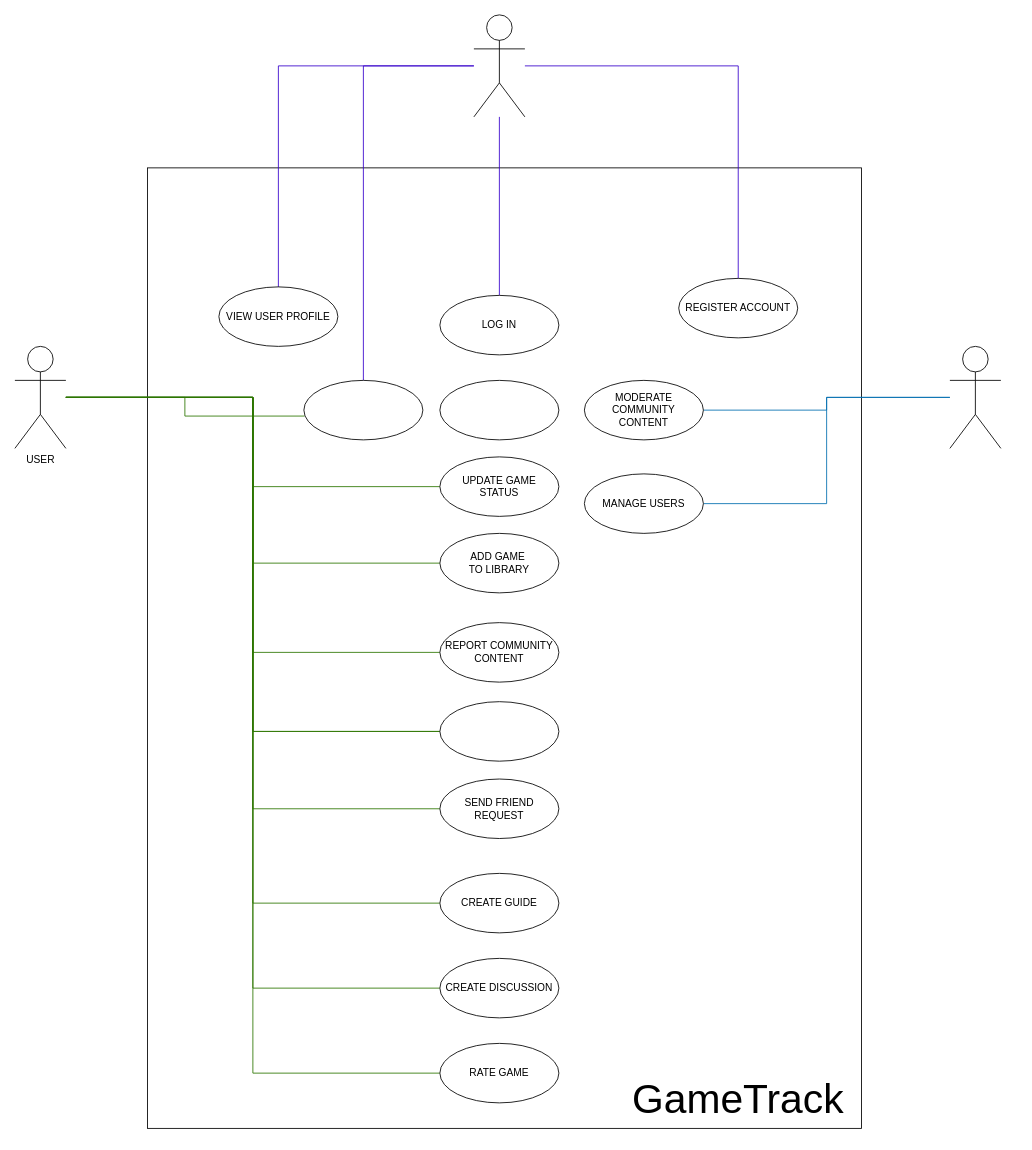
Image size: 1032x1150. Some labels were removed from this diagram. Here are the shapes that lost their labels. From the top down, the centre of each, then its label:
At point (499, 65): "GUEST".
At point (363, 410): "VIEW COMMUNITY CONTENT".
At point (499, 410): "MANAGE PROFILE".
At point (975, 397): "ADMINISTRATOR".
At point (499, 731): "WRITE GAME REVIEW".
